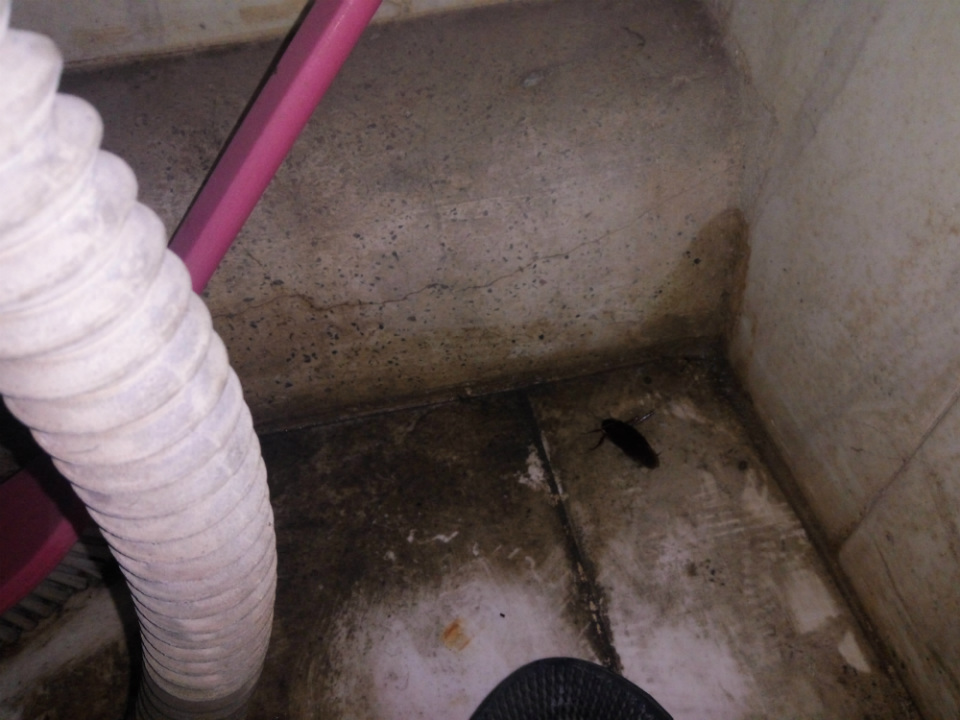cockroach: (511, 241, 699, 472)
